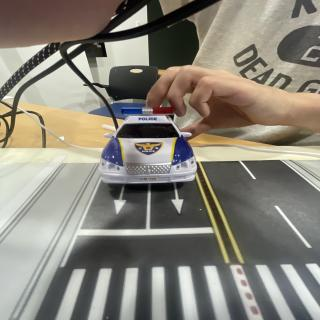Police_car: (99, 107, 196, 183)
